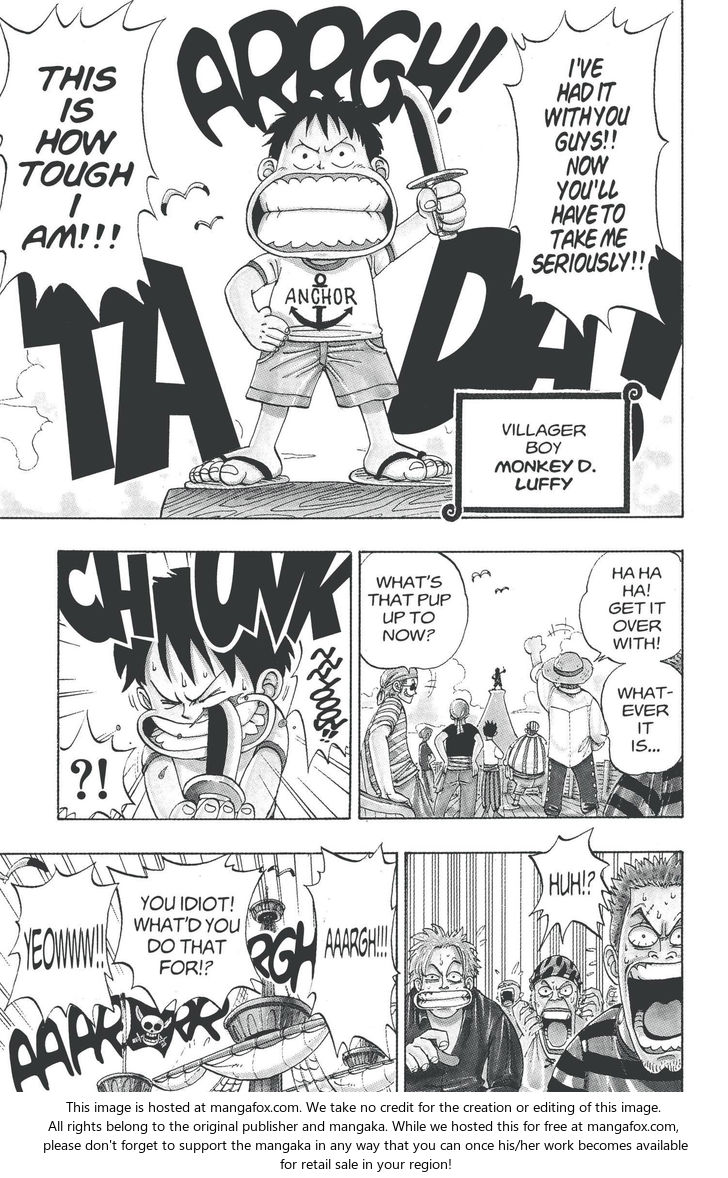bubble: (503, 8, 672, 338), (0, 1, 164, 327), (108, 853, 266, 1016), (305, 843, 399, 1059), (458, 395, 629, 511), (5, 862, 118, 1027), (359, 551, 469, 672), (579, 550, 682, 663), (529, 827, 611, 949), (601, 661, 683, 775), (57, 711, 136, 820)
